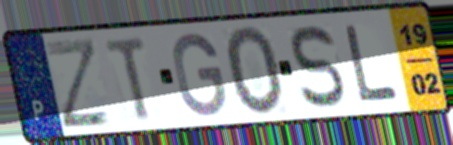G: (171, 30, 229, 119)
L: (341, 22, 402, 105)
O: (223, 23, 287, 118)
S: (289, 22, 348, 111)
T: (102, 34, 155, 124)
Z: (42, 35, 114, 132)
